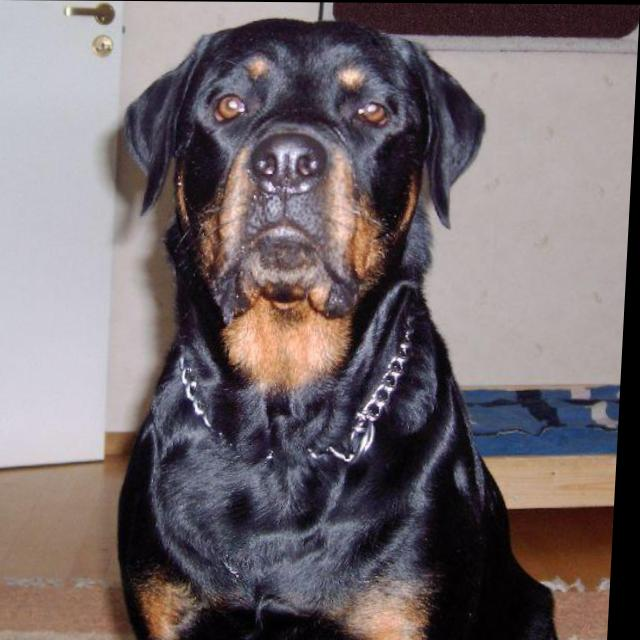rottweiler: (106, 16, 607, 640)
